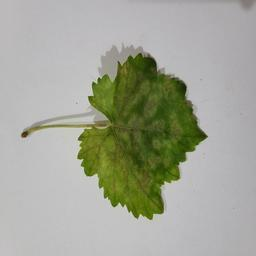Powdery-Mildew: (132, 156, 162, 193), (143, 78, 165, 120), (155, 116, 181, 150), (102, 135, 116, 161), (119, 63, 135, 80)
